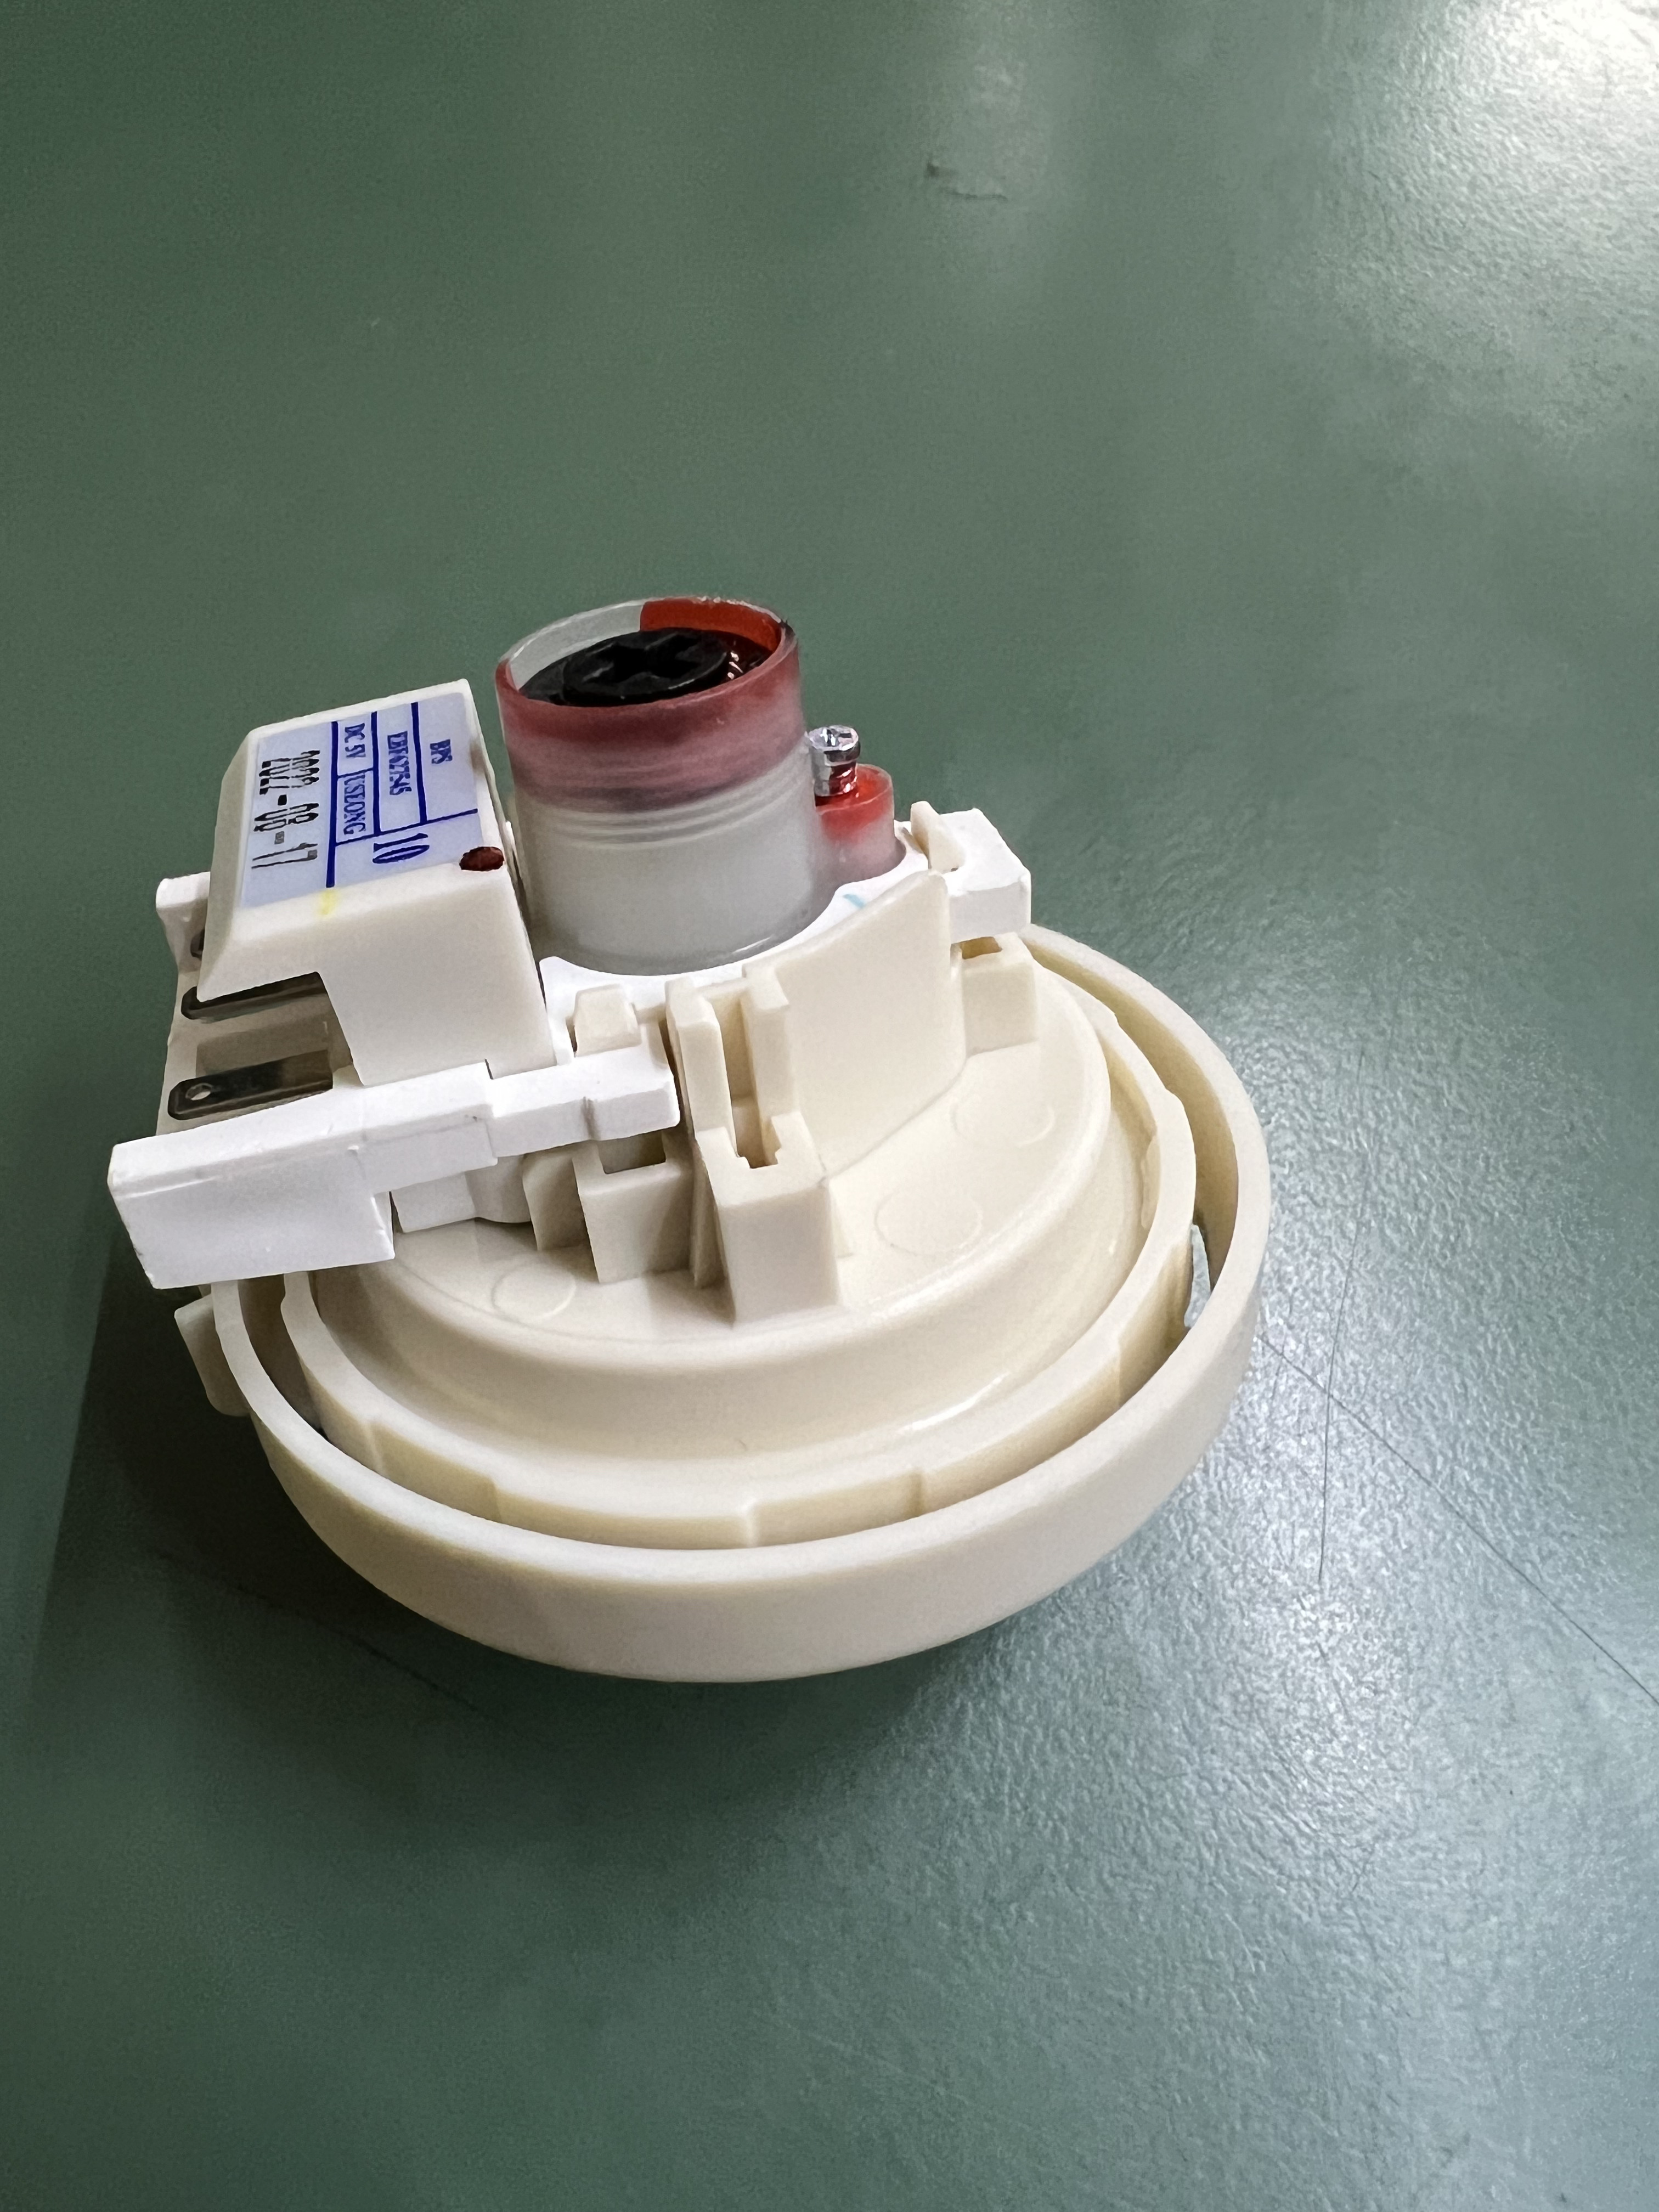pressure_sensor: (101, 608, 1316, 1716)
